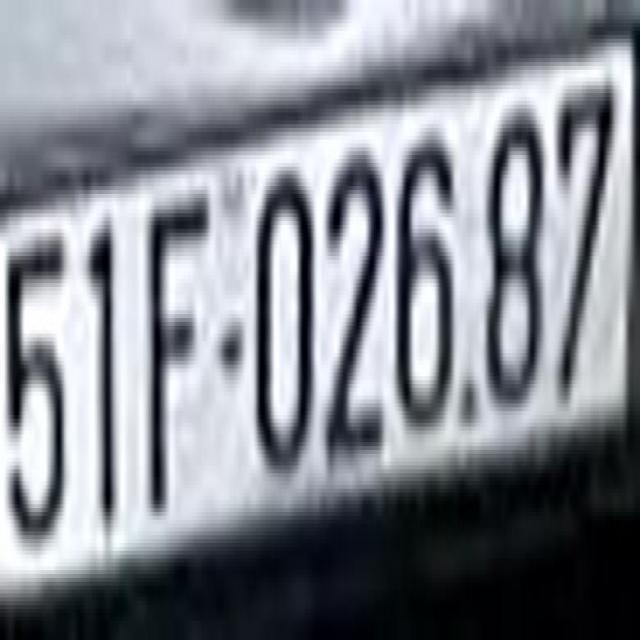0: (254, 163, 317, 489)
1: (80, 194, 128, 547)
2: (322, 120, 385, 477)
5: (3, 224, 65, 566)
6: (392, 109, 454, 454)
7: (549, 54, 617, 400)
8: (483, 78, 544, 430)
F: (144, 198, 212, 528)
